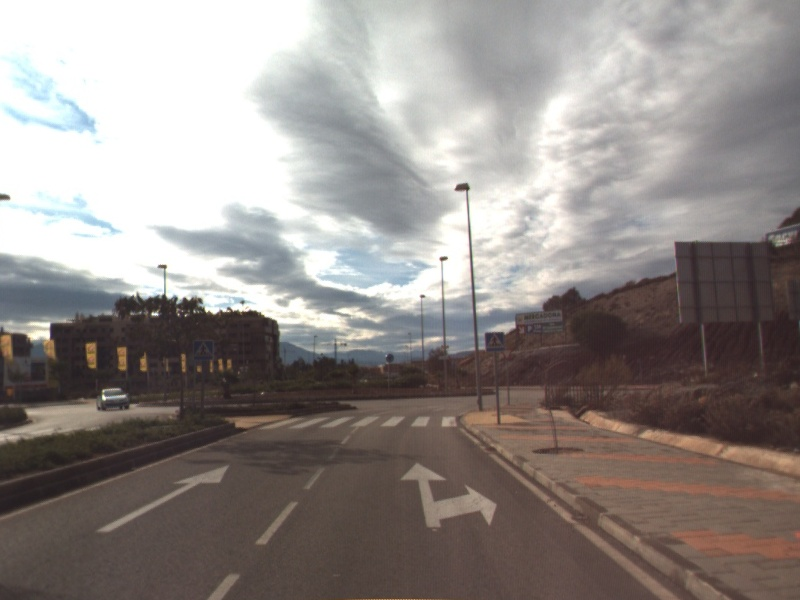STRAIGHT: (94, 463, 231, 534)
STRAIGHT_RIGHT: (398, 460, 499, 529)
